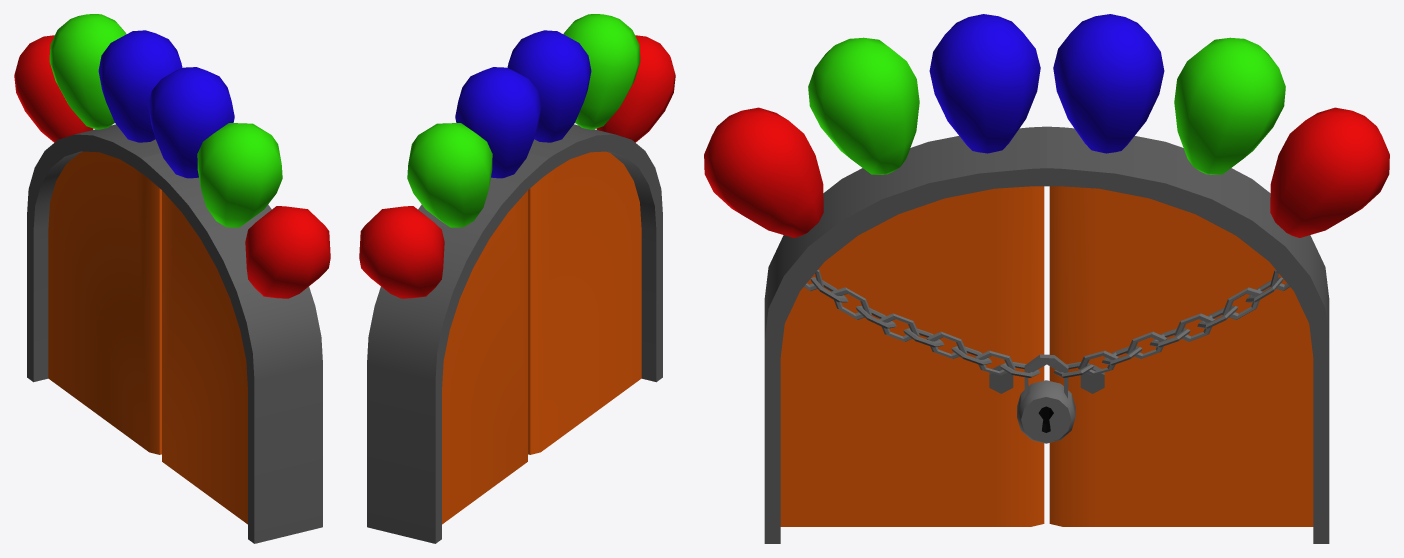
The model's file is levelupkapisi.fbx.
The picture shows the model from 3 angles, left to right: view 1: azimuth 30°, elevation 25°; view 2: azimuth 150°, elevation 25°; view 3: azimuth 270°, elevation 25°; orthographic projection. The views are drawn at different scales.
Parts seen in each view (by area): view 1: levelupkapi-2, levelupkapi.001, levelupkapi, balon-5, balon-6, balon-4, balon-3, balon-2, balon; view 2: levelupkapi-2, levelupkapi, levelupkapi.001, balon-2, balon-3, balon, balon-6, balon-5, balon-4; view 3: levelupkapi.001, levelupkapi, levelupkapi-2, balon, balon-4, balon-3, balon-6, balon-2, balon-5, zincir, kilit.
Part boxes in pixels (x1,y1,x2,y2): levelupkapi-2: (27,124,322,543); levelupkapi.001: (48,151,161,454); levelupkapi: (162,190,247,524); balon-5: (197,123,282,227); balon-6: (148,67,234,178); balon-4: (245,206,330,298); balon-3: (98,30,182,142); balon-2: (49,14,126,129); balon: (14,35,93,142); levelupkapi-2: (367,124,662,543); levelupkapi: (528,151,641,454); levelupkapi.001: (442,190,527,524); balon-2: (407,123,492,227); balon-3: (455,67,541,178); balon: (359,206,444,298); balon-6: (507,30,591,142); balon-5: (563,14,640,129); balon-4: (596,35,675,142); levelupkapi.001: (1049,186,1313,526); levelupkapi: (780,186,1044,526); levelupkapi-2: (764,126,1329,543); balon: (1270,107,1389,237); balon-4: (704,107,823,237); balon-3: (1053,14,1164,153); balon-6: (929,14,1040,153); balon-2: (1174,37,1285,174); balon-5: (808,37,919,174); zincir: (804,270,1289,377); kilit: (1017,354,1075,443).
Bounding box in the file's own units: 128 × 585 × 729.
